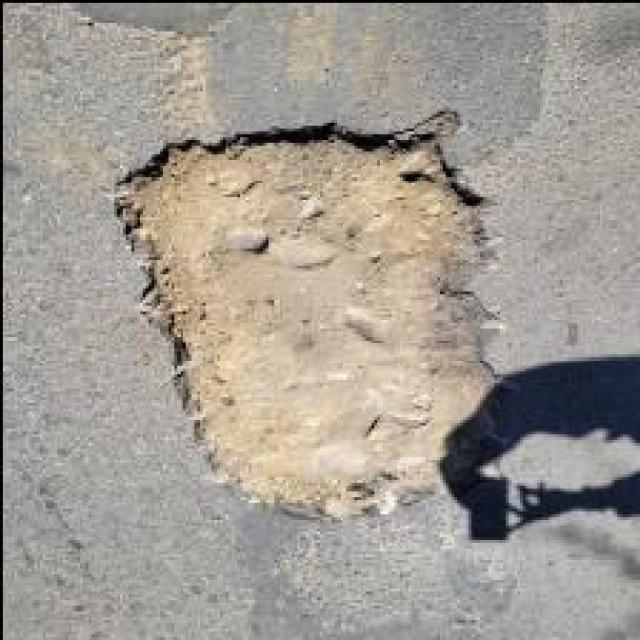BACHE: (121, 135, 487, 518)
PARCHE: (208, 3, 546, 167), (72, 0, 239, 34)
